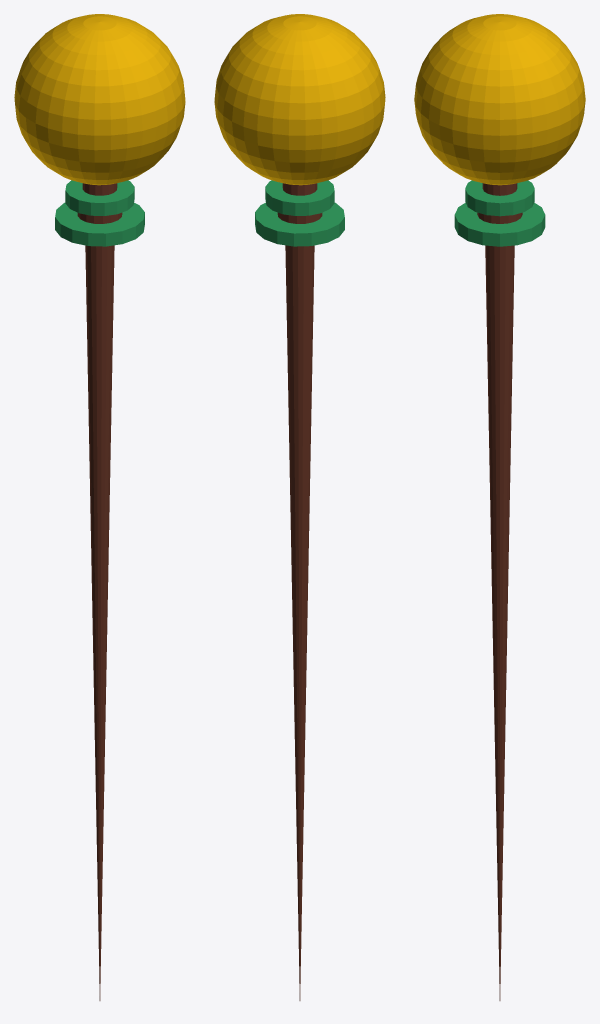
File: WandMagic_2.fbx
3 renders of one model, left to right at view 1: azimuth 30°, elevation 25°; view 2: azimuth 150°, elevation 25°; view 3: azimuth 270°, elevation 25°, orthographic.
Parts seen in each view (by area): view 1: Cylinder; view 2: Cylinder; view 3: Cylinder.
Part boxes in pixels (x1,y1,x2,y2): Cylinder: (14,14,185,1000); Cylinder: (214,14,385,1000); Cylinder: (414,14,585,1000).
Bounding box in the file's own units: 59.58 × 379 × 59.58.
